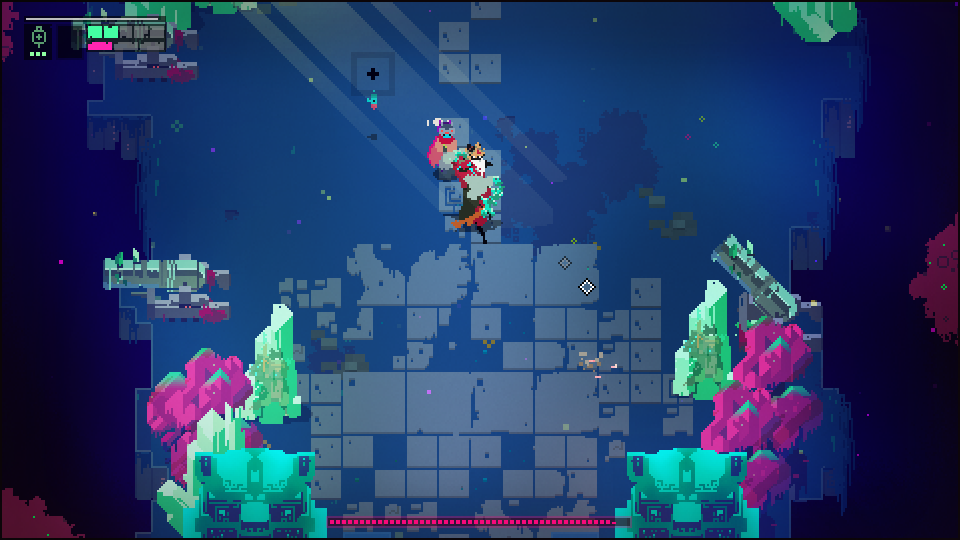hanged_man: (448, 141, 505, 236)
player: (424, 117, 462, 178)
